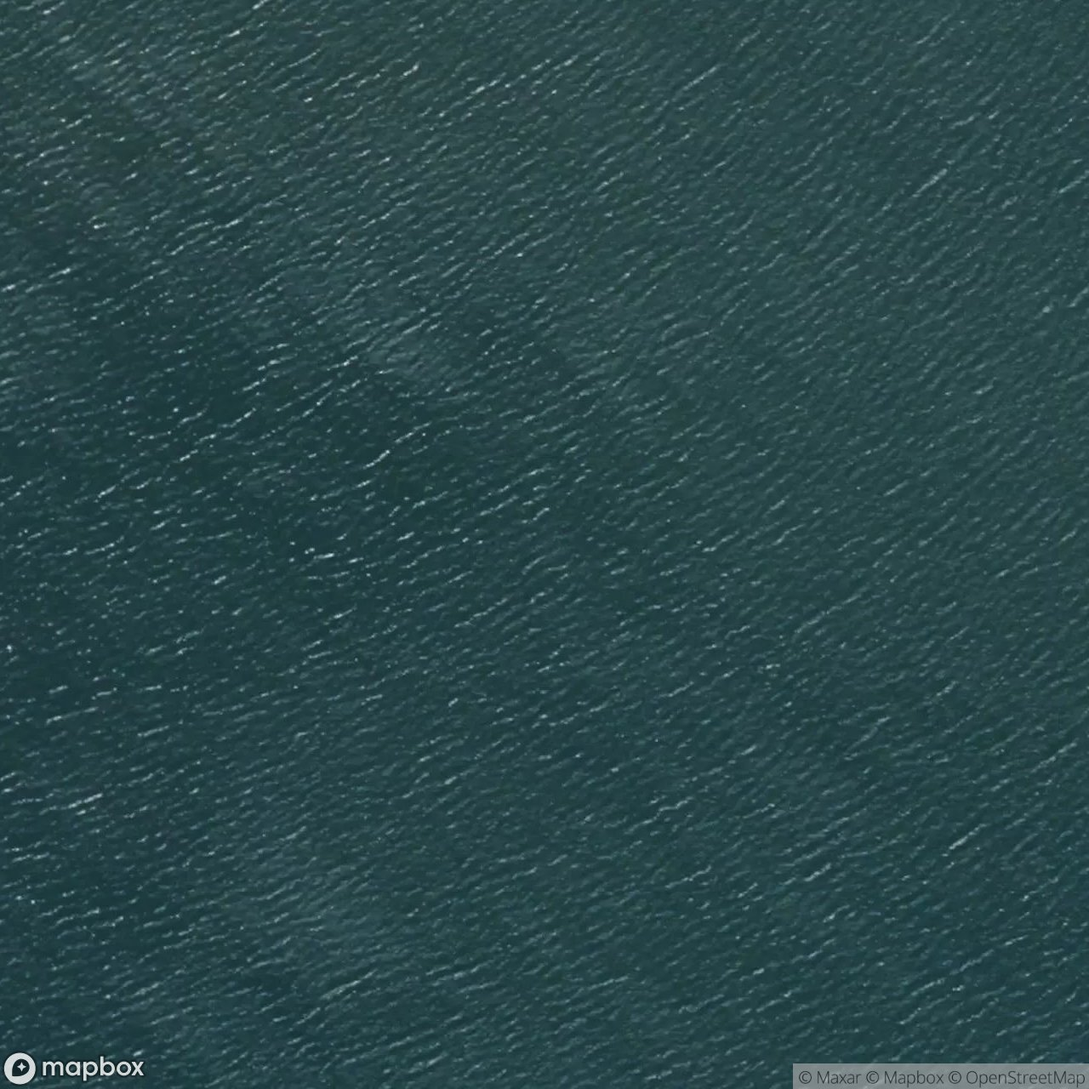Sea: (2, 0, 1089, 1089)
